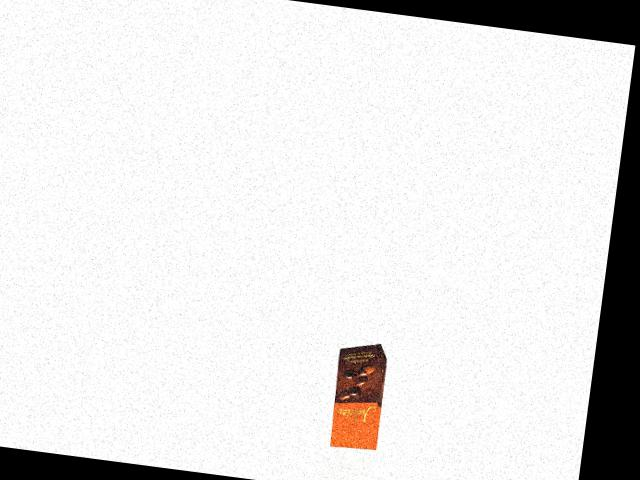chocolate: (321, 339, 392, 451)
